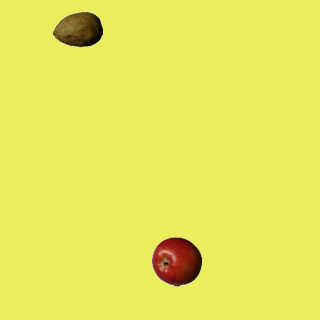Apple Braeburn: (151, 236, 201, 286)
Papaya: (52, 4, 102, 54)
